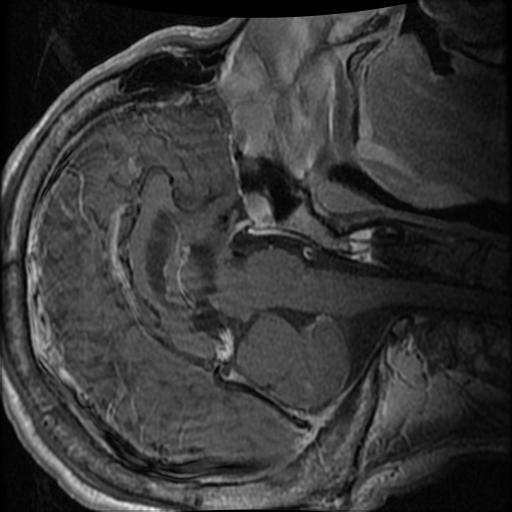pituitary tumour: (246, 195, 270, 227)
